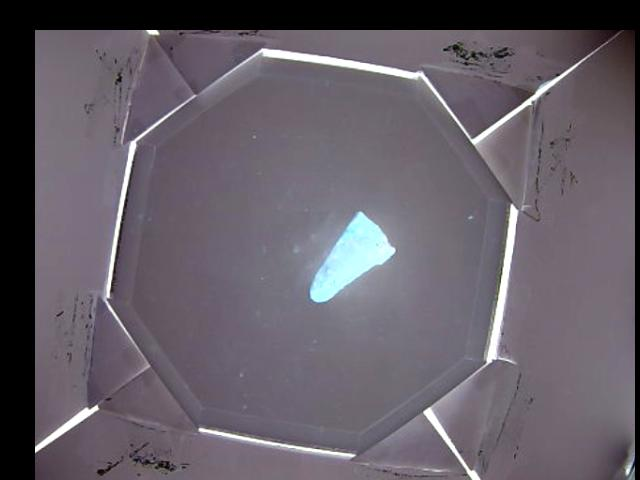Brisk: (309, 210, 395, 303)
